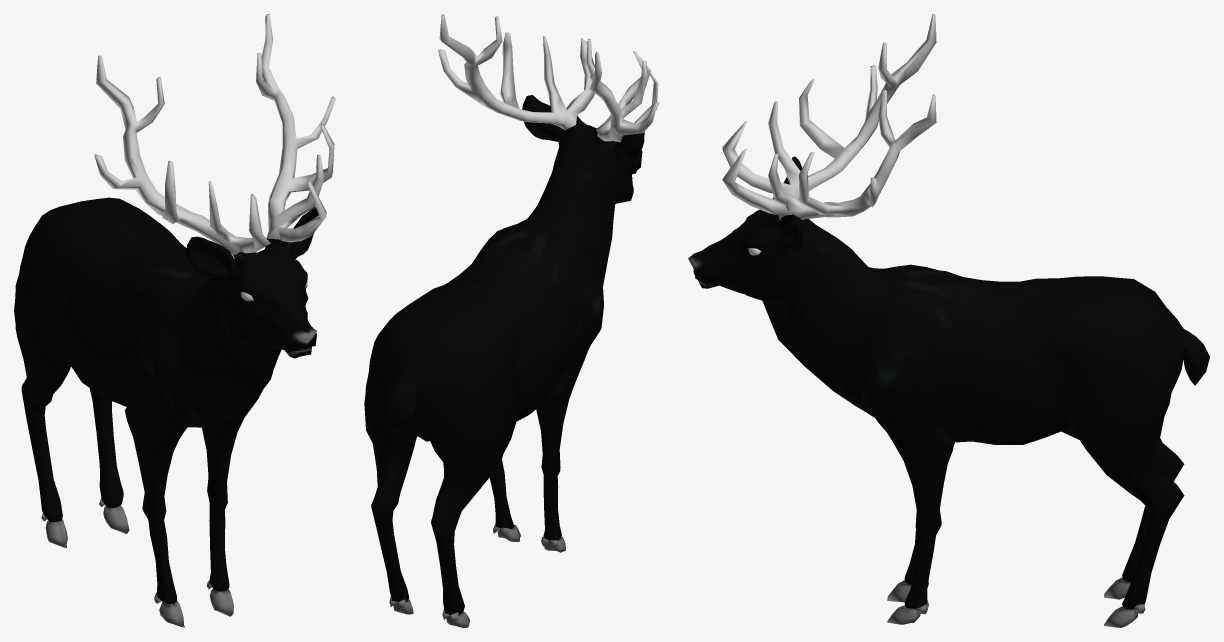
Rendered from RedDeer.dae.
3 renders of one model, left to right at view 1: azimuth 30°, elevation 25°; view 2: azimuth 150°, elevation 25°; view 3: azimuth 270°, elevation 25°, orthographic. The views are drawn at different scales.
Parts seen in each view (by area): view 1: RedDeer; view 2: RedDeer; view 3: RedDeer.
Boxes of the visible parts, x1,y1,x2,y2 form: RedDeer: (14,14,335,627); RedDeer: (364,14,659,627); RedDeer: (688,14,1209,627).
Size of the model in its own units: 0.8545 by 1.65 by 1.94.
